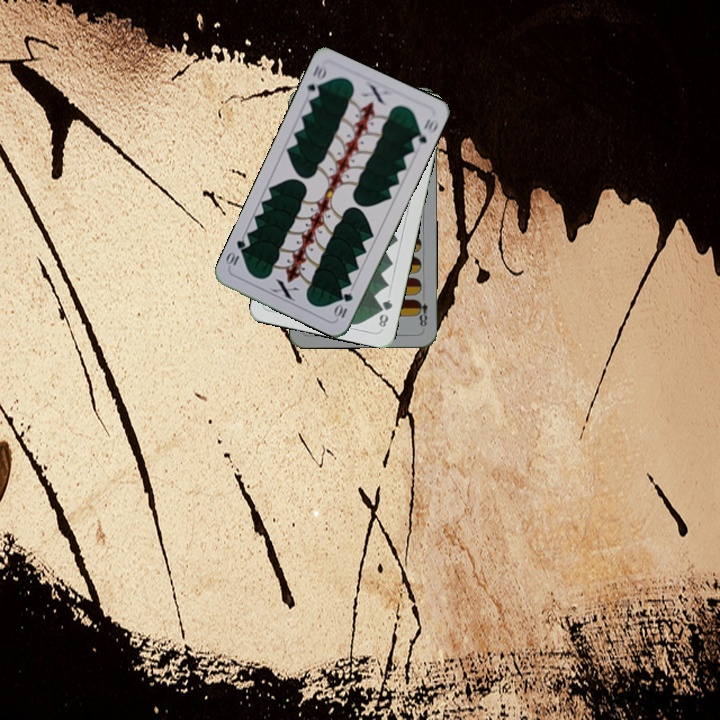E8: (413, 291, 430, 331)
G10: (303, 60, 329, 102), (330, 288, 356, 321)
G8: (375, 295, 395, 332)
